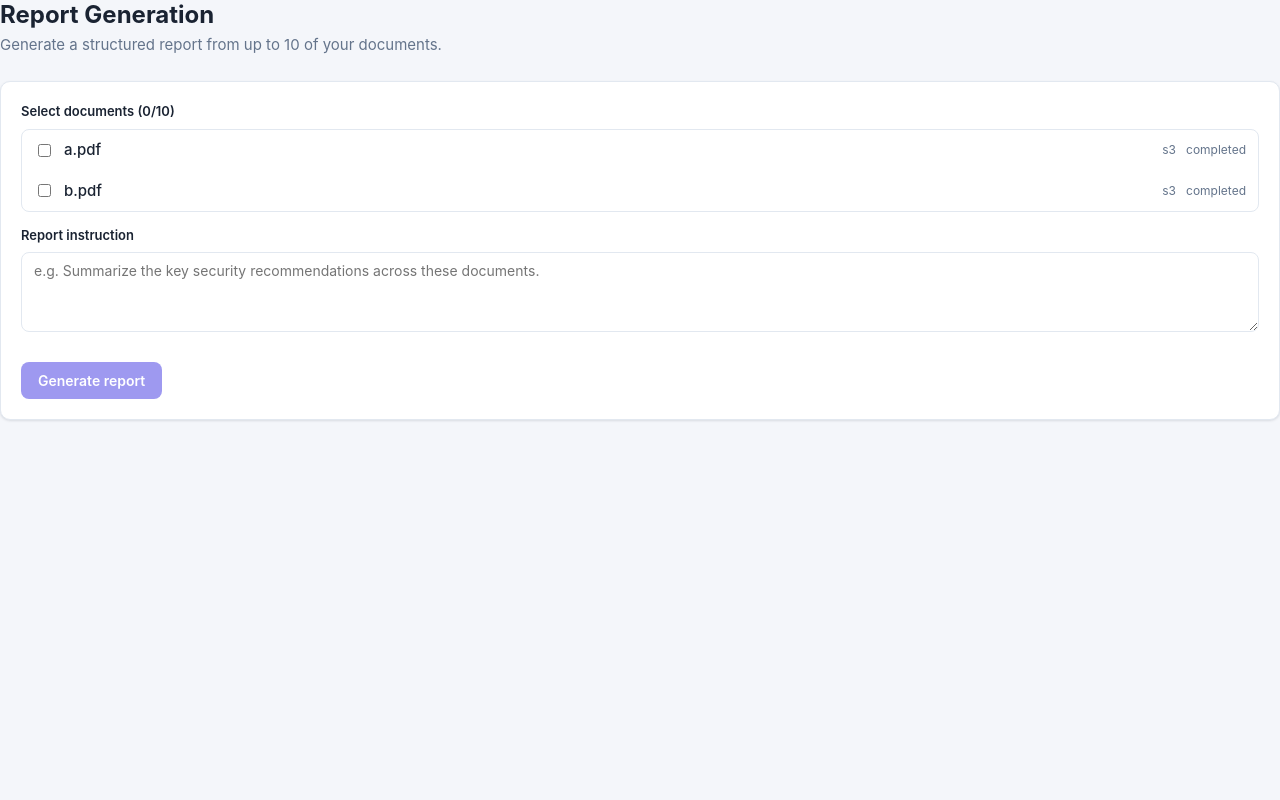
Test: ReportsPage › renders all structured report sections from the API
// select documents from the picker
Click the checkbox labelled "a.pdf s3 completed" at {"x": 44, "y": 150}, box [38, 144, 51, 157]
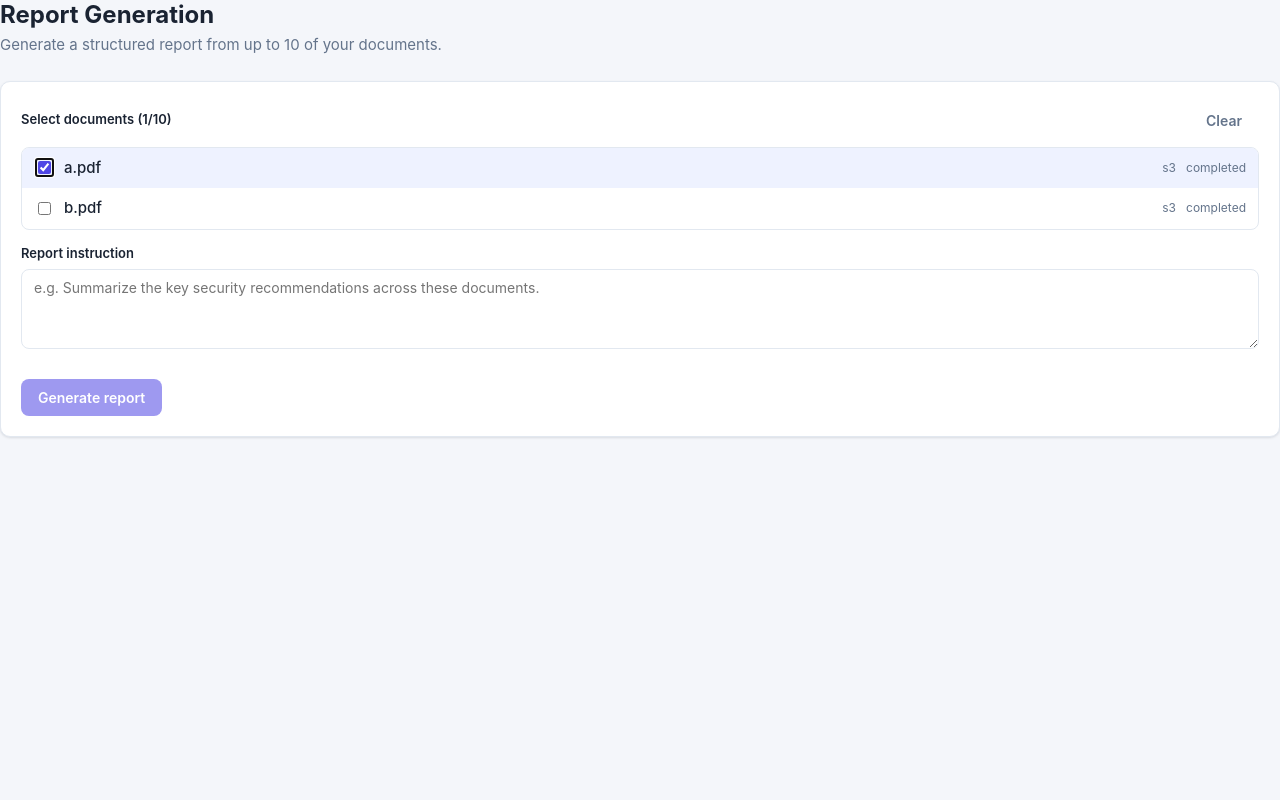
Click the checkbox labelled "b.pdf s3 completed" at {"x": 44, "y": 208}, box [38, 202, 51, 215]
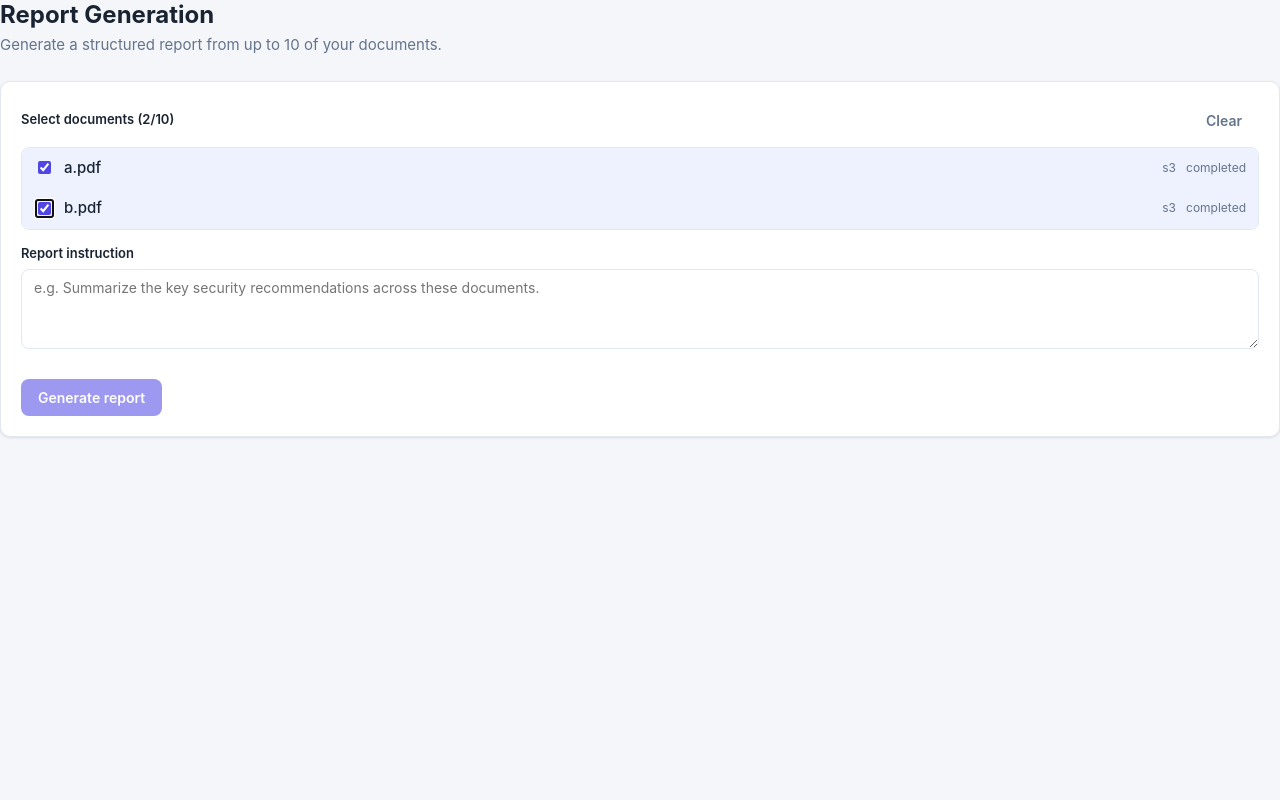
Type "Summarize both" into the text box labelled "Report instruction" at {"x": 640, "y": 309}, box [21, 269, 1259, 349]
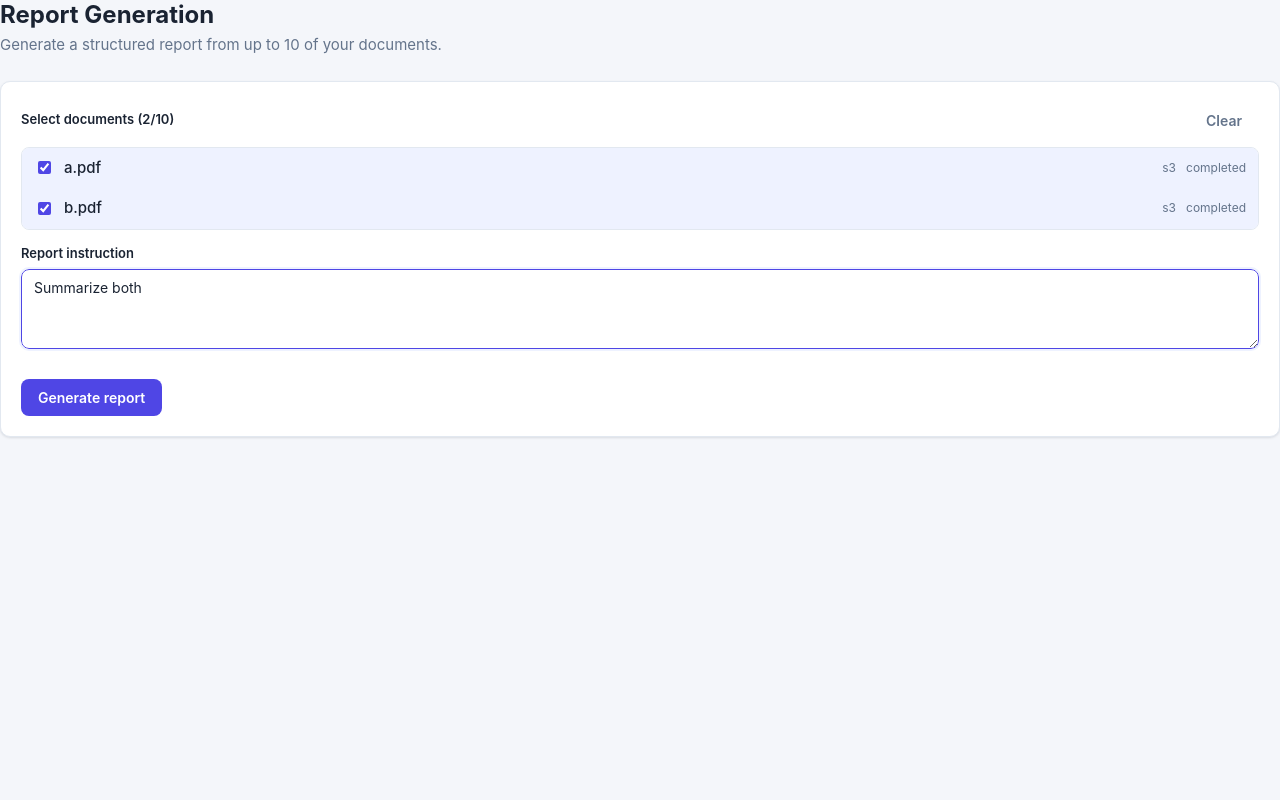
Click the button "Generate report" at {"x": 92, "y": 398}, box [21, 379, 162, 416]
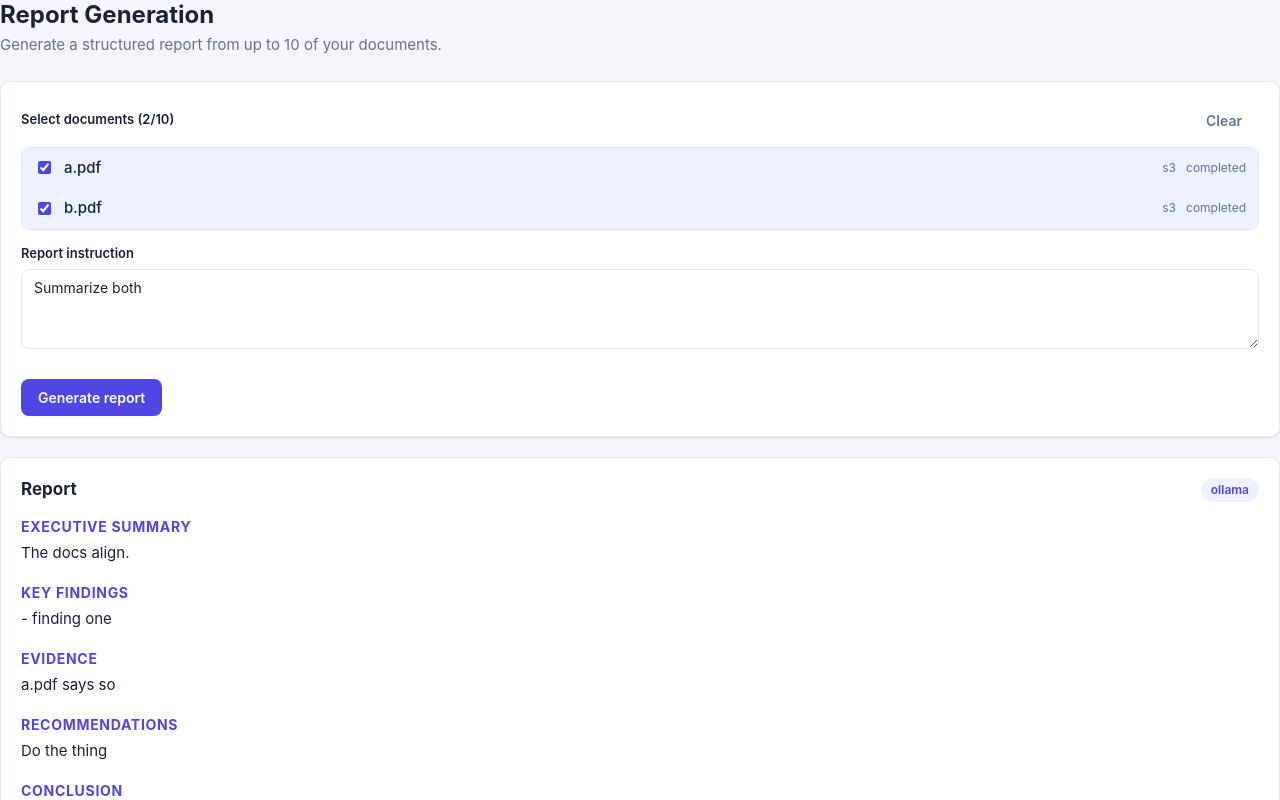
Result: the text "The docs align." is shown at [21, 542, 130, 562]
Result: the heading "Key Findings" is shown at [21, 584, 129, 601]
Result: the text "- finding one" is shown at [21, 608, 112, 628]
